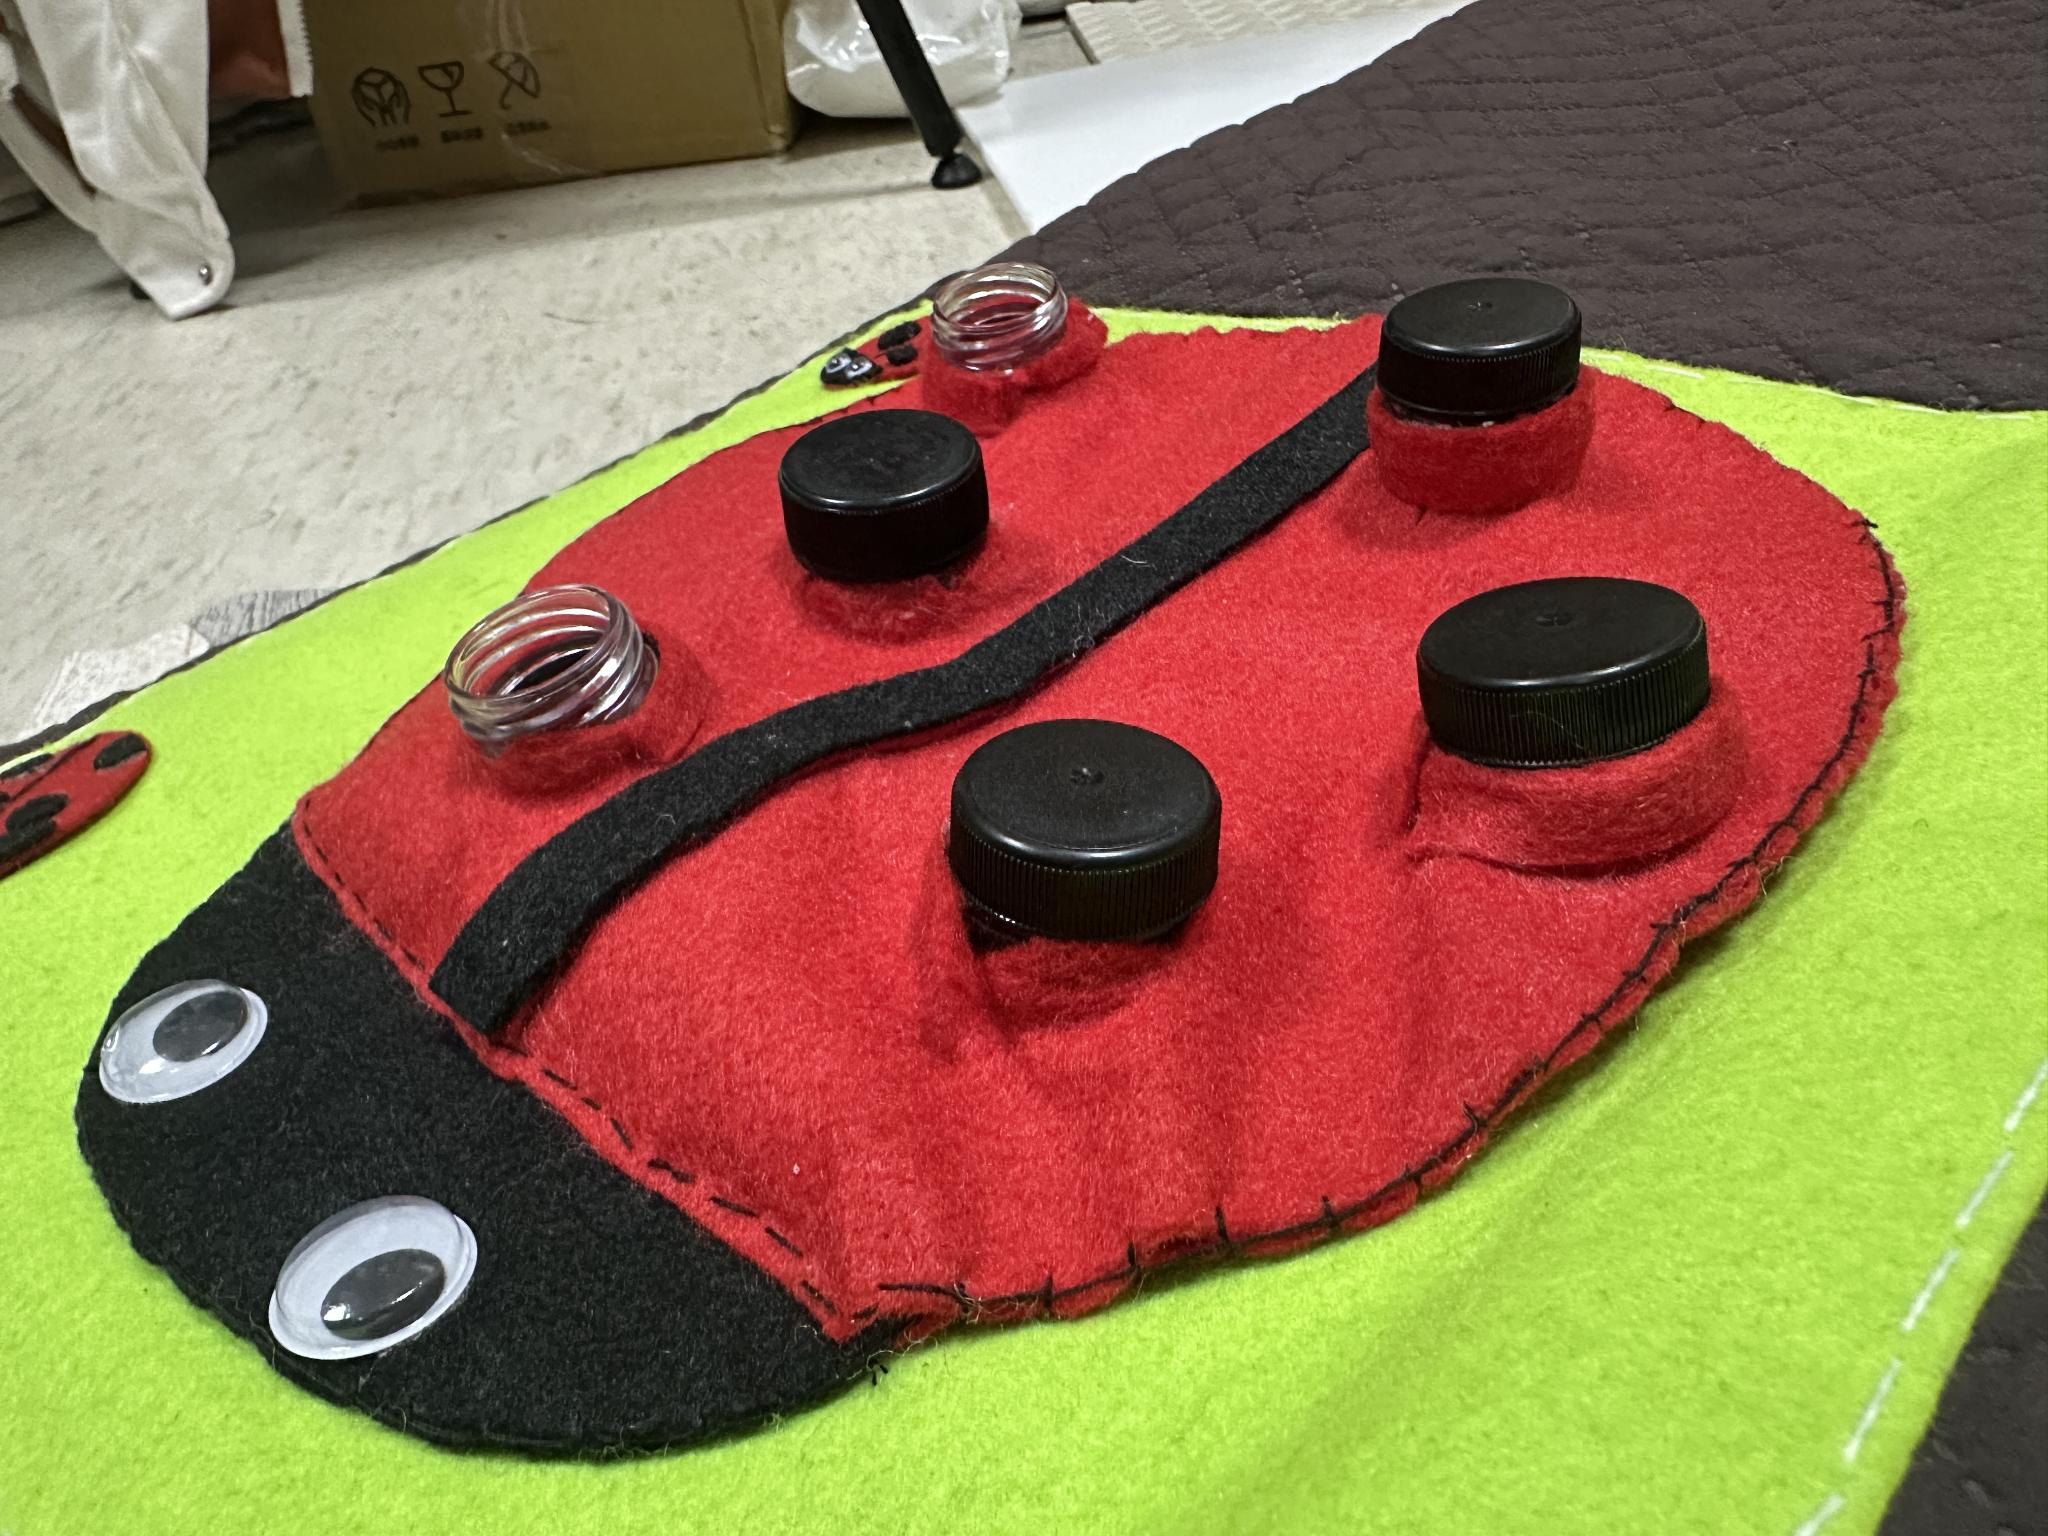cap_ok: (1384, 537, 1750, 865), (927, 692, 1269, 992), (1338, 252, 1638, 536), (748, 394, 1042, 629)
